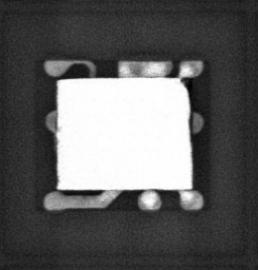DIE_BROKEN: (180, 75, 195, 144)
